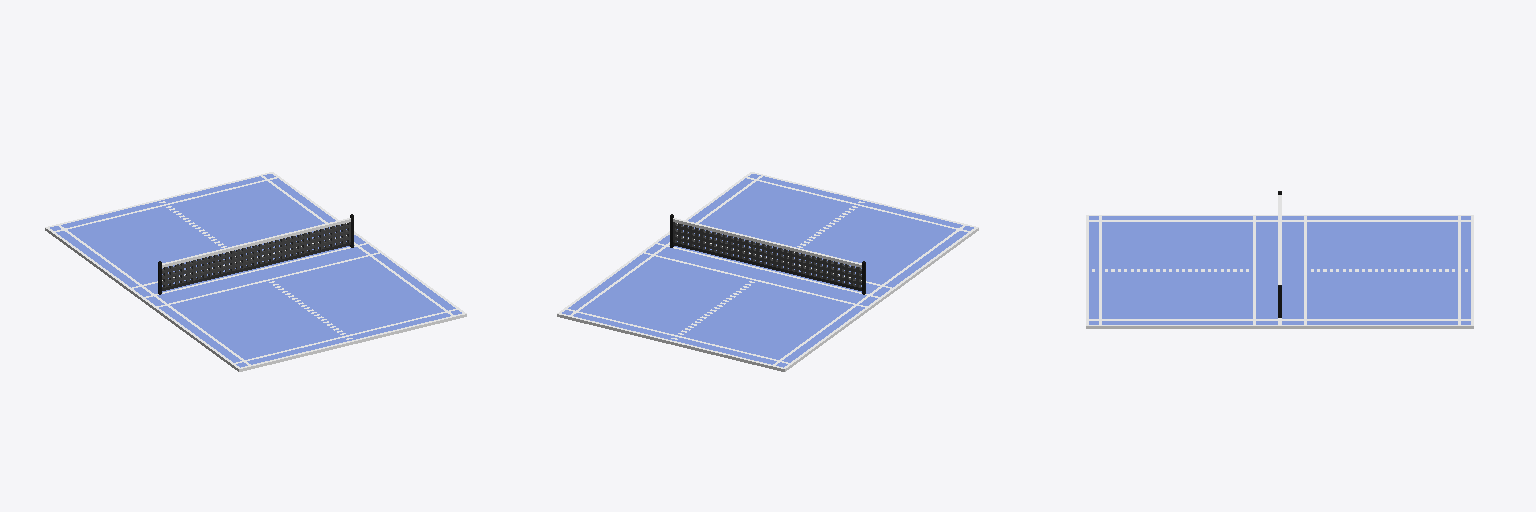
3 renders of one model, left to right at view 1: azimuth 30°, elevation 25°; view 2: azimuth 150°, elevation 25°; view 3: azimuth 270°, elevation 25°, orthographic.
Visible parts, largest first — view 1: Box_57; view 2: Box_57; view 3: Box_57.
Boxes of the visible parts, x1=… form: Box_57: x1=45, y1=172, x2=466, y2=371; Box_57: x1=557, y1=172, x2=978, y2=371; Box_57: x1=1086, y1=191, x2=1473, y2=328.
Bounding box in the file's own units: 82 × 12 × 121.
1 materials, 1 textured.